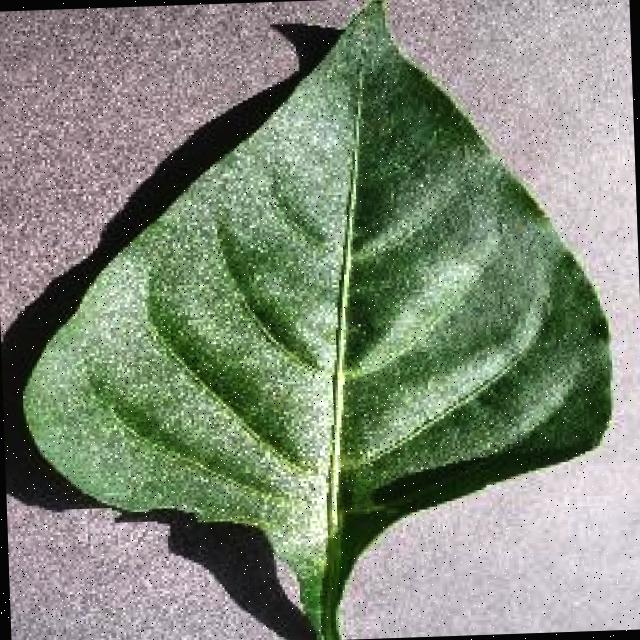Leaf: (151, 43, 550, 540)
